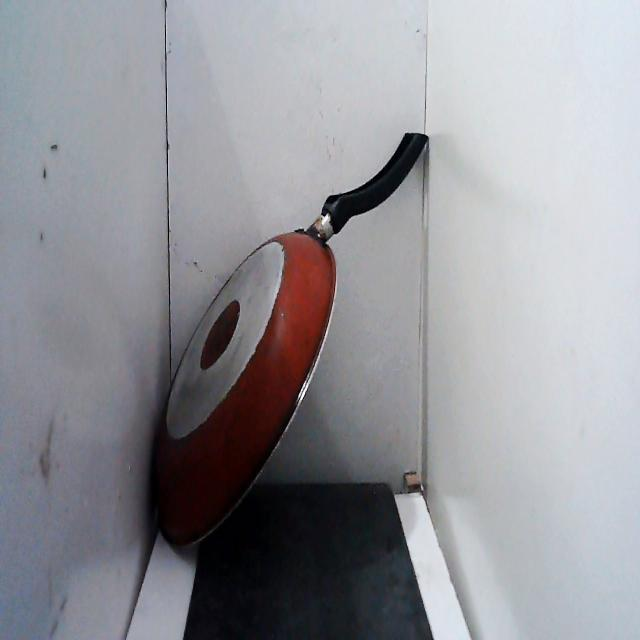metal: (144, 230, 342, 566)
